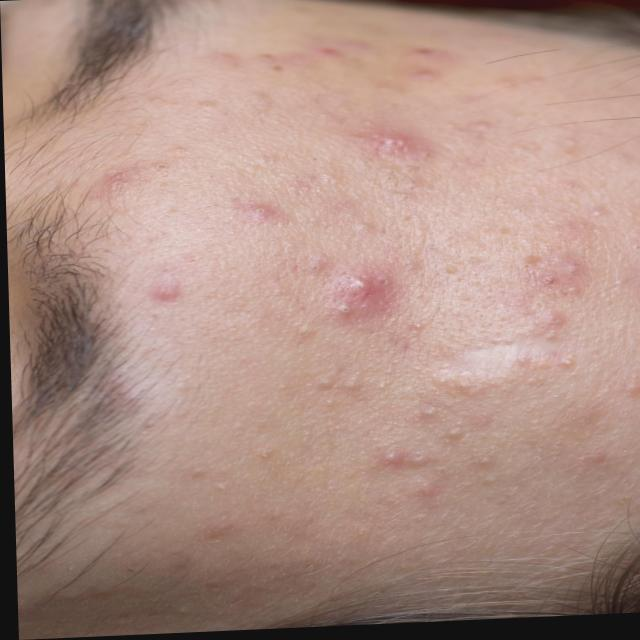dark spot: (362, 131, 417, 166), (380, 177, 431, 211), (298, 377, 336, 404), (298, 257, 329, 288), (330, 299, 360, 322), (368, 274, 404, 290)
